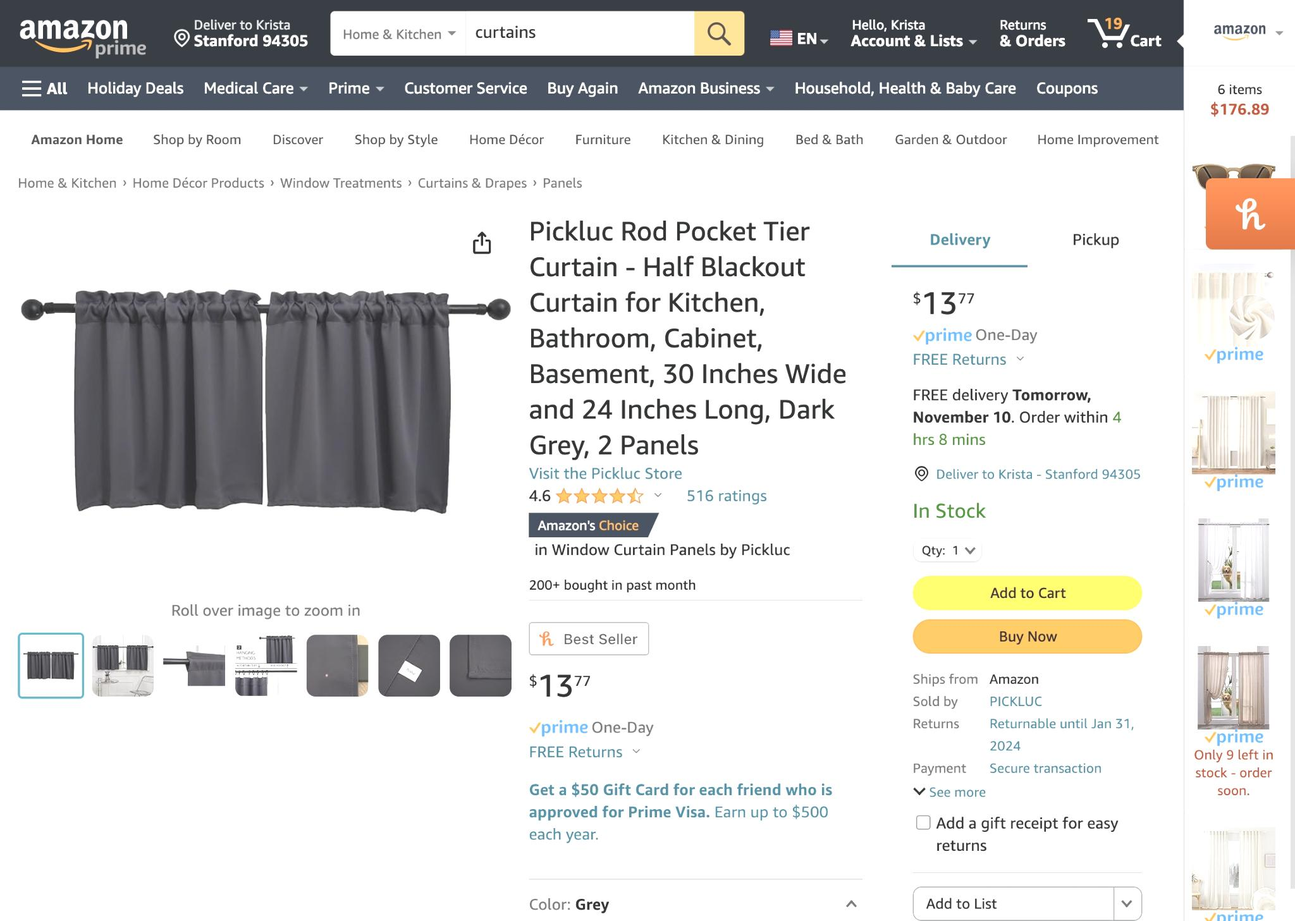webelement: (0, 212, 1182, 921), (0, 0, 1182, 164), (890, 266, 1162, 921), (19, 288, 511, 514), (529, 214, 846, 460), (911, 667, 1141, 800), (529, 767, 861, 855), (890, 212, 1162, 267), (529, 879, 861, 921), (19, 598, 511, 620), (1184, 0, 1294, 97), (465, 11, 693, 53), (331, 15, 576, 53), (930, 811, 1139, 855), (163, 4, 317, 60), (911, 407, 1120, 448), (12, 4, 161, 60), (840, 4, 987, 60), (1022, 111, 1172, 164), (891, 211, 1027, 268), (1027, 211, 1163, 268), (879, 111, 1022, 164), (783, 71, 1025, 102), (912, 385, 1091, 426), (529, 740, 861, 762), (913, 576, 1140, 608), (913, 619, 1140, 651), (645, 111, 779, 164), (1191, 518, 1275, 602), (1191, 645, 1275, 729), (1191, 135, 1275, 218), (1191, 263, 1275, 346), (1191, 390, 1275, 473), (1191, 827, 1275, 910), (913, 887, 1112, 919), (16, 111, 136, 164), (136, 111, 255, 164), (338, 111, 452, 164), (181, 115, 365, 146), (452, 111, 558, 164), (911, 537, 1141, 561), (989, 715, 1133, 752), (779, 111, 878, 164), (1077, 4, 1170, 60), (174, 158, 338, 189), (911, 348, 1141, 370), (780, 158, 940, 189), (628, 71, 783, 102), (989, 4, 1074, 60), (534, 540, 790, 558), (559, 111, 645, 164), (756, 4, 837, 60), (394, 71, 536, 102), (733, 115, 874, 146), (257, 111, 339, 164), (597, 115, 733, 146), (1193, 746, 1272, 797), (935, 464, 1140, 483), (193, 71, 318, 102), (339, 158, 463, 189), (19, 634, 81, 696), (90, 634, 152, 696), (163, 634, 225, 696), (234, 634, 296, 696), (305, 634, 367, 696), (377, 634, 439, 696), (450, 634, 512, 696), (366, 115, 489, 146), (76, 71, 191, 102), (280, 202, 394, 233), (343, 15, 441, 51), (668, 158, 780, 189), (171, 202, 281, 233), (489, 115, 596, 146), (512, 202, 617, 233), (563, 158, 667, 189), (76, 115, 179, 146), (1041, 158, 1143, 189), (940, 158, 1041, 189), (464, 158, 563, 189), (76, 158, 173, 189), (76, 202, 169, 233), (529, 513, 648, 537), (536, 71, 627, 102), (11, 66, 76, 109), (528, 464, 682, 482), (529, 576, 696, 592), (1026, 71, 1107, 102), (911, 326, 1036, 345), (318, 71, 393, 102), (1036, 115, 1111, 146), (528, 719, 653, 737), (693, 10, 743, 54), (637, 78, 759, 96), (912, 349, 1023, 368), (193, 31, 308, 49), (850, 32, 977, 48), (529, 741, 640, 759), (132, 174, 263, 189), (395, 202, 457, 233), (850, 16, 977, 31), (184, 167, 328, 180), (1036, 131, 1158, 146), (279, 174, 400, 189), (988, 781, 1108, 796), (554, 487, 642, 507), (912, 498, 985, 522), (193, 16, 308, 31), (457, 202, 512, 233), (894, 131, 1007, 146), (988, 759, 1101, 774), (417, 174, 526, 189), (935, 466, 1044, 481), (203, 78, 293, 96), (661, 131, 763, 146), (17, 174, 116, 189), (1044, 466, 1140, 481), (685, 486, 765, 504), (537, 513, 595, 537), (536, 667, 573, 704), (30, 131, 121, 146), (911, 538, 982, 557), (1191, 262, 1275, 278), (921, 284, 957, 321), (573, 165, 643, 184), (151, 131, 239, 146), (925, 894, 996, 912), (767, 27, 827, 48), (353, 131, 437, 146), (1191, 134, 1275, 149), (1191, 389, 1275, 404), (1191, 517, 1275, 532), (1191, 644, 1275, 659), (1191, 826, 1275, 841), (971, 325, 1036, 343), (588, 717, 653, 735), (468, 131, 543, 146), (929, 230, 990, 248), (528, 682, 577, 704), (999, 32, 1064, 48), (795, 131, 862, 146), (1204, 473, 1262, 490), (999, 16, 1064, 31), (912, 670, 977, 685), (597, 513, 637, 537), (911, 327, 970, 343), (528, 720, 587, 736), (1204, 219, 1262, 235), (1204, 346, 1262, 362), (1204, 601, 1262, 617), (1204, 729, 1262, 745), (1209, 102, 1268, 117), (95, 40, 144, 58), (1071, 230, 1118, 248), (574, 131, 630, 146), (929, 783, 985, 798), (1114, 887, 1140, 919), (912, 537, 946, 561), (529, 894, 574, 912), (912, 759, 965, 774), (989, 692, 1041, 707), (272, 131, 323, 146), (1214, 25, 1265, 40), (328, 78, 369, 96), (467, 228, 494, 255), (989, 670, 1037, 685), (912, 714, 959, 729), (912, 692, 957, 707), (1216, 80, 1260, 95), (1203, 910, 1262, 921), (574, 894, 608, 912), (184, 168, 224, 183), (542, 174, 580, 189), (529, 486, 555, 504), (839, 894, 862, 911), (40, 81, 66, 95), (920, 542, 944, 556), (956, 289, 973, 307), (956, 284, 964, 321), (573, 671, 589, 688), (573, 667, 580, 704), (915, 815, 929, 829), (912, 289, 921, 307), (528, 671, 537, 688), (951, 542, 957, 556), (268, 173, 273, 188), (531, 173, 536, 188), (122, 173, 126, 188), (407, 173, 411, 188)
